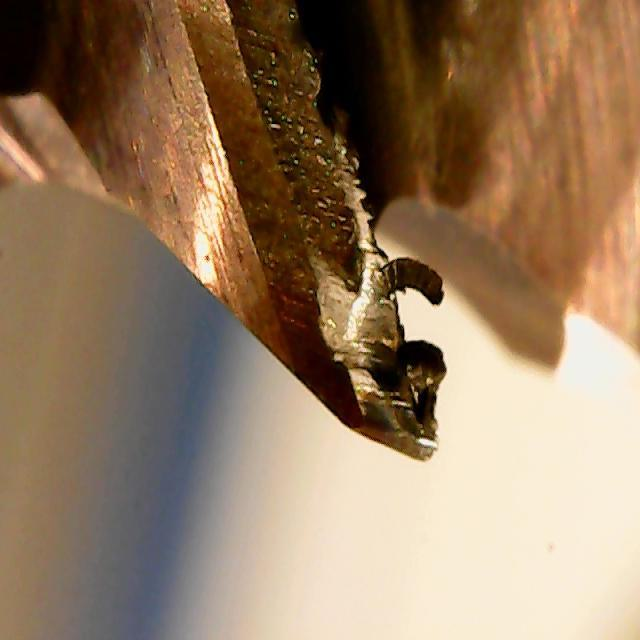Tool-wear-class-3: (237, 222, 449, 480)
